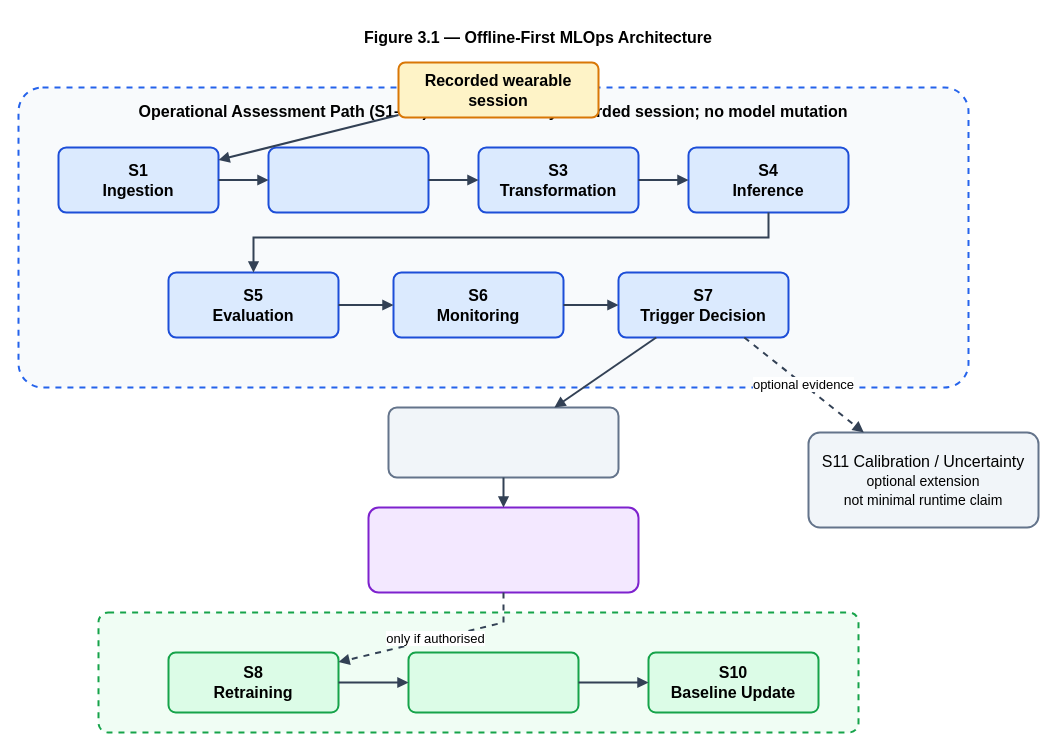
Image size: 1056x750. Some labels were removed from this diagram. The shapes that lost their labels are listed below. From the top down, each one's box as (x1, y1, x2, y2) in pixels, then its label:
(267, 146, 429, 213): S2 Validation
(387, 406, 619, 478): Governance outcome accept / warning / review
(367, 506, 639, 593): Governance Gate labels + review + validation evidence required
(97, 611, 859, 733): Governed Mutation Path (S8–S10) — entered only if authorised
(407, 651, 579, 713): S9 Registration
